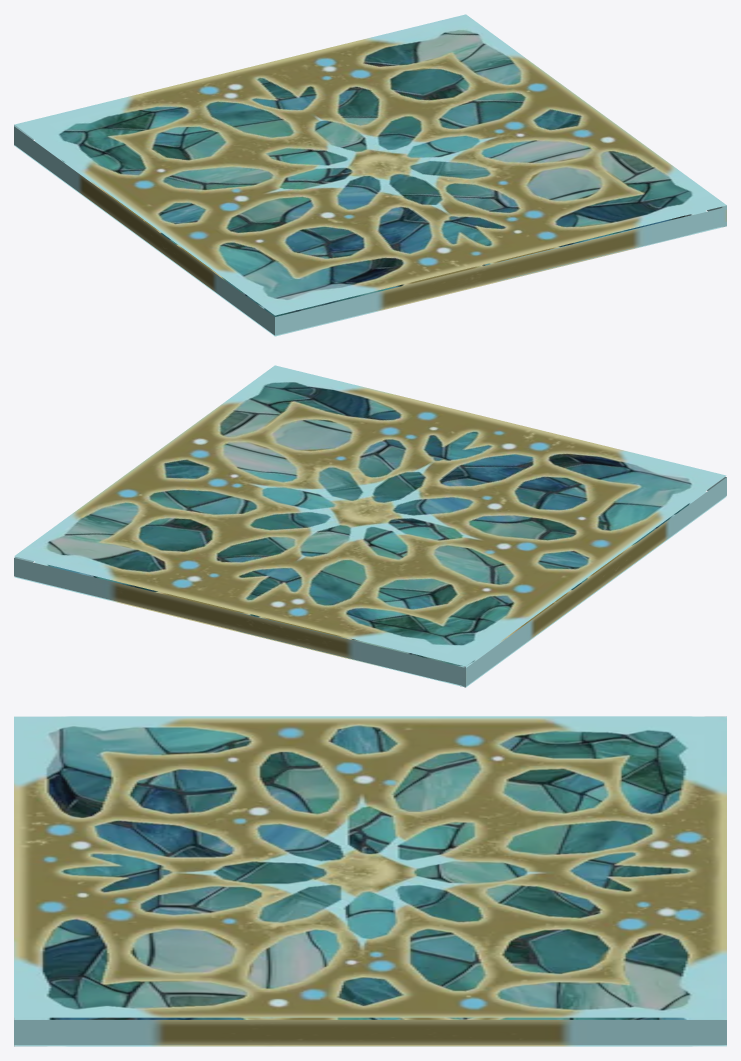
Rendered from tile5Compressed.glb.
3 views of the same model, one above another, from view 1: azimuth 30°, elevation 25°; view 2: azimuth 150°, elevation 25°; view 3: azimuth 270°, elevation 25° (orthographic). The views are drawn at different scales.
Parts seen in each view (by area): view 1: tile5; view 2: tile5; view 3: tile5.
Part boxes in pixels (<box>): tile5: <box>14,14,726,336</box>; tile5: <box>14,365,726,687</box>; tile5: <box>14,716,726,1046</box>.
Size of the model in its own units: 1 by 0.1598 by 1.
2 materials, 1 textured.
